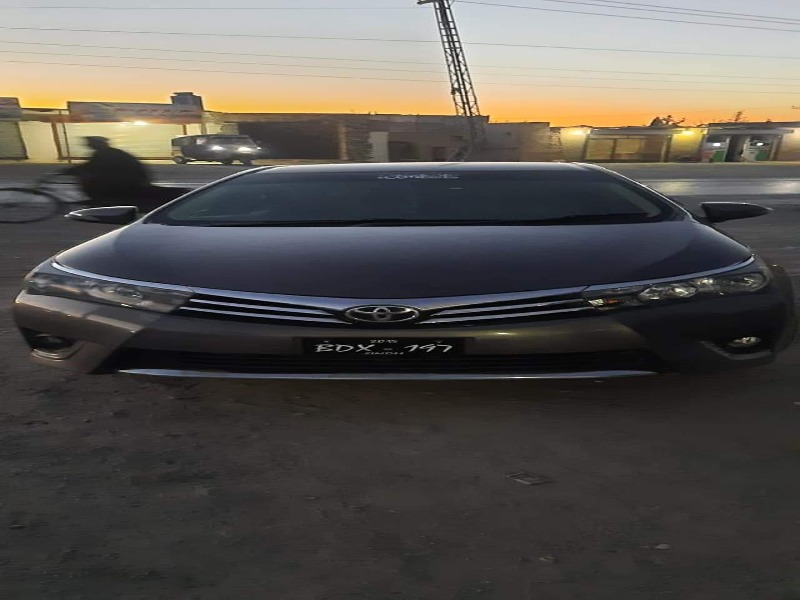License Plate: (293, 333, 482, 374)
